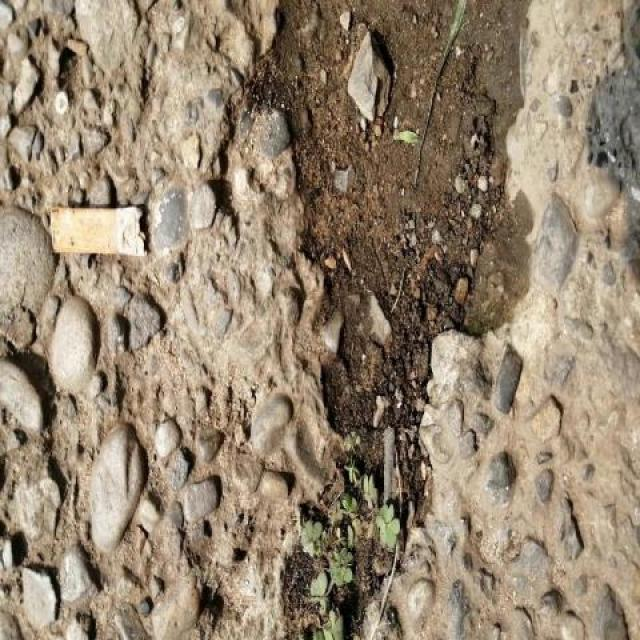non-organic waste: (44, 195, 153, 260)
